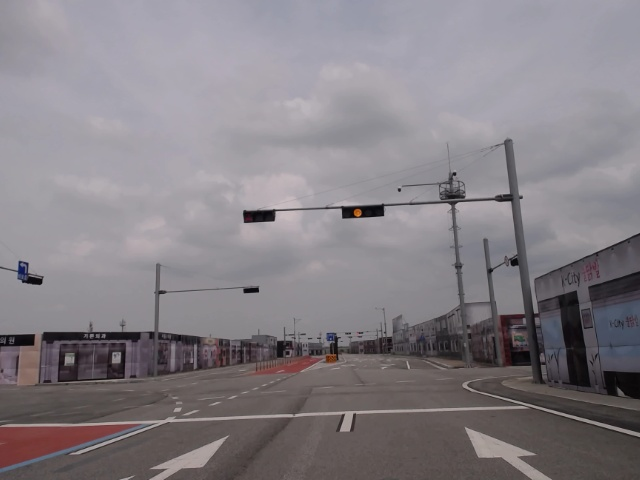orange_4: (341, 204, 386, 220)
